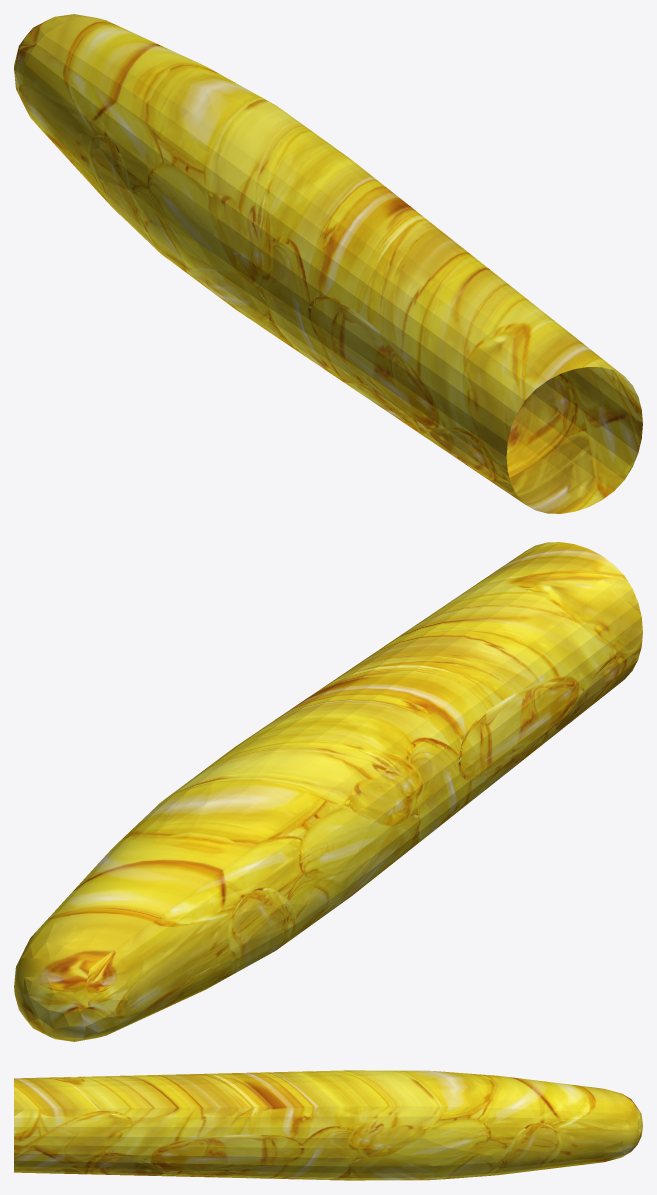
Rendered from Fish4_1.dae.
3 views of the same model, one above another, from view 1: azimuth 30°, elevation 25°; view 2: azimuth 150°, elevation 25°; view 3: azimuth 270°, elevation 25° (orthographic). The views are drawn at different scales.
Parts seen in each view (by area): view 1: Cube_Cube_001; view 2: Cube_Cube_001; view 3: Cube_Cube_001.
Boxes of the visible parts, x1,y1,x2,y2 form: Cube_Cube_001: (14,14,642,513); Cube_Cube_001: (14,542,642,1041); Cube_Cube_001: (14,1070,642,1180).
Size of the model in its own units: 0.6741 by 3.87 by 0.6741.
Materials: 1 (1 with a texture image).
